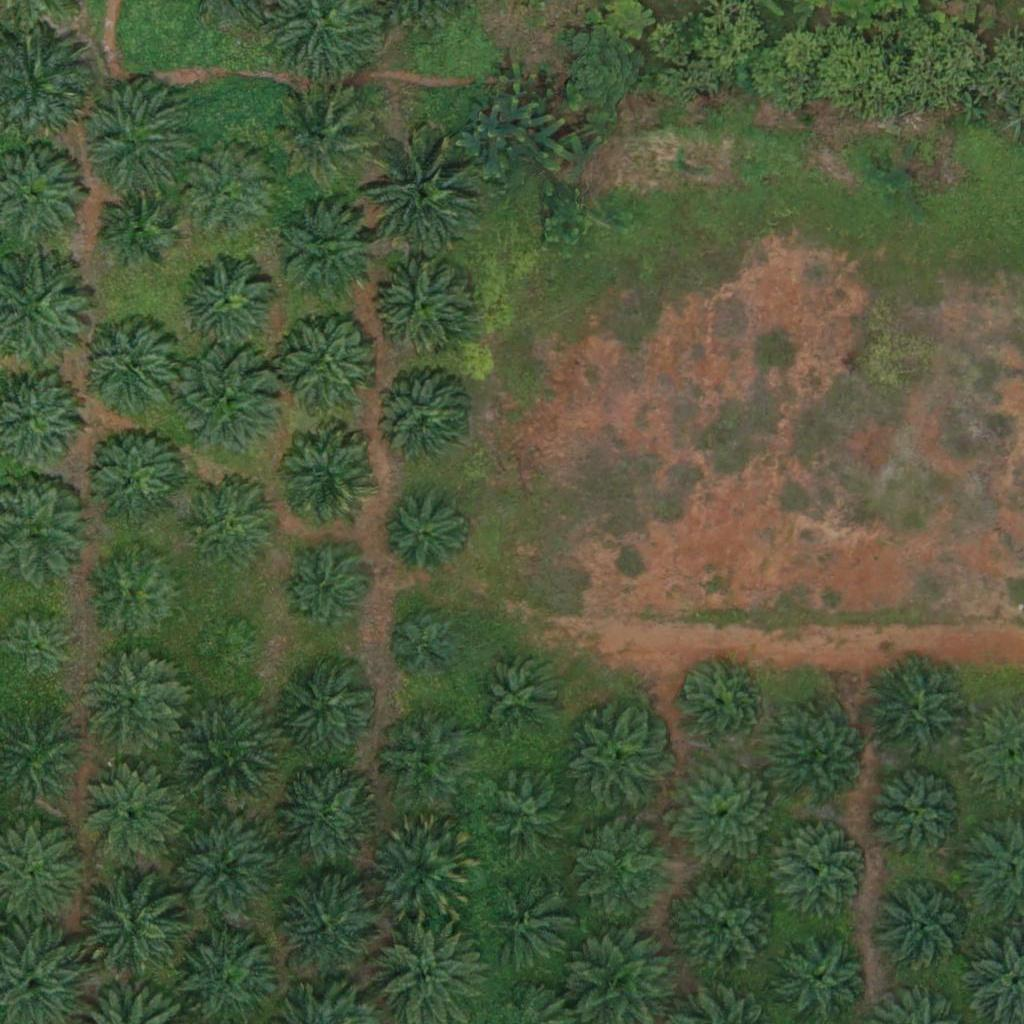Kelapa_Sawit: (78, 84, 191, 198), (270, 305, 383, 419), (168, 344, 281, 458), (668, 758, 781, 872), (672, 870, 785, 984), (366, 814, 479, 927), (269, 655, 382, 768), (368, 141, 480, 254), (273, 199, 385, 312), (270, 763, 382, 876), (171, 692, 283, 805), (169, 814, 281, 927), (77, 868, 189, 981), (863, 655, 975, 768), (278, 89, 378, 190), (372, 255, 472, 356), (374, 711, 474, 812), (185, 474, 285, 575), (83, 423, 183, 524), (87, 542, 187, 643), (79, 650, 179, 751), (79, 761, 179, 862), (275, 876, 375, 977), (771, 710, 871, 811), (872, 769, 972, 870), (874, 875, 974, 976), (76, 319, 176, 419), (178, 142, 278, 242), (175, 254, 275, 354), (374, 369, 474, 469), (275, 429, 375, 529), (567, 710, 667, 810), (580, 820, 680, 920), (771, 819, 871, 919), (379, 493, 467, 581), (474, 655, 562, 743), (485, 885, 573, 973), (490, 775, 577, 863), (281, 545, 368, 633), (675, 658, 762, 746), (99, 188, 174, 264), (392, 613, 455, 676), (194, 616, 256, 679)
